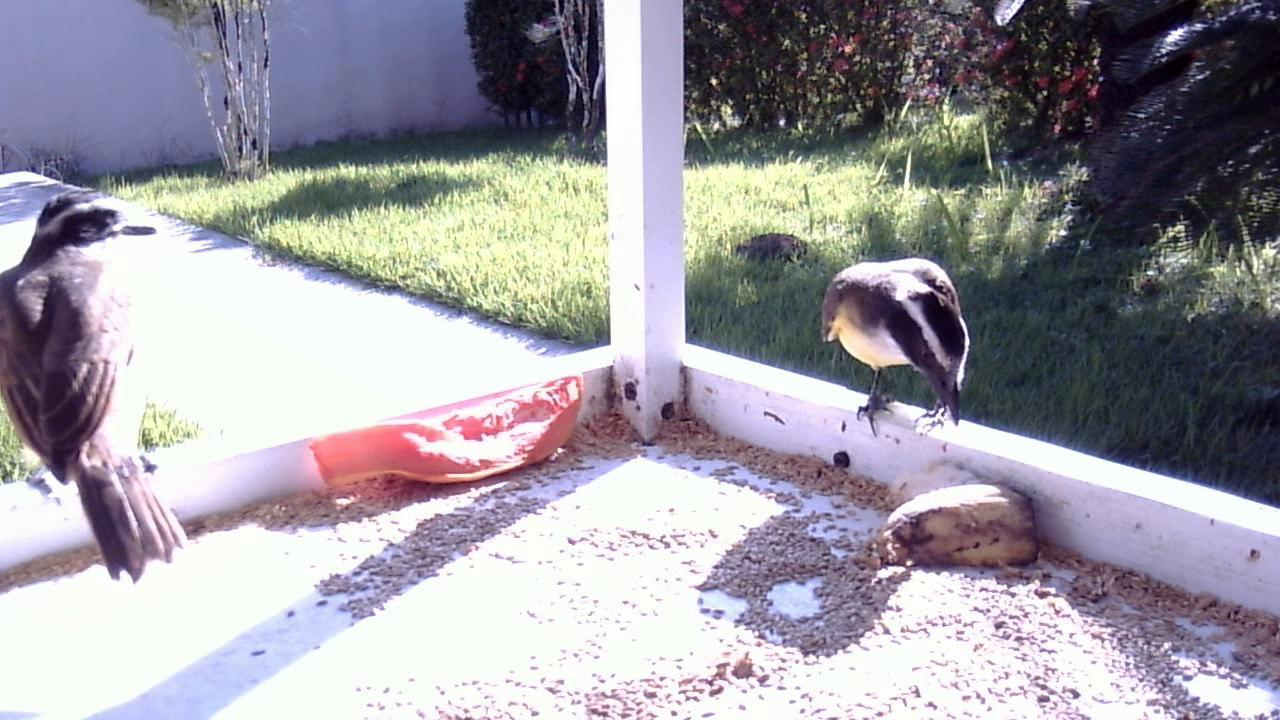bem_te_vi: (1, 154, 215, 607), (810, 251, 972, 447)
